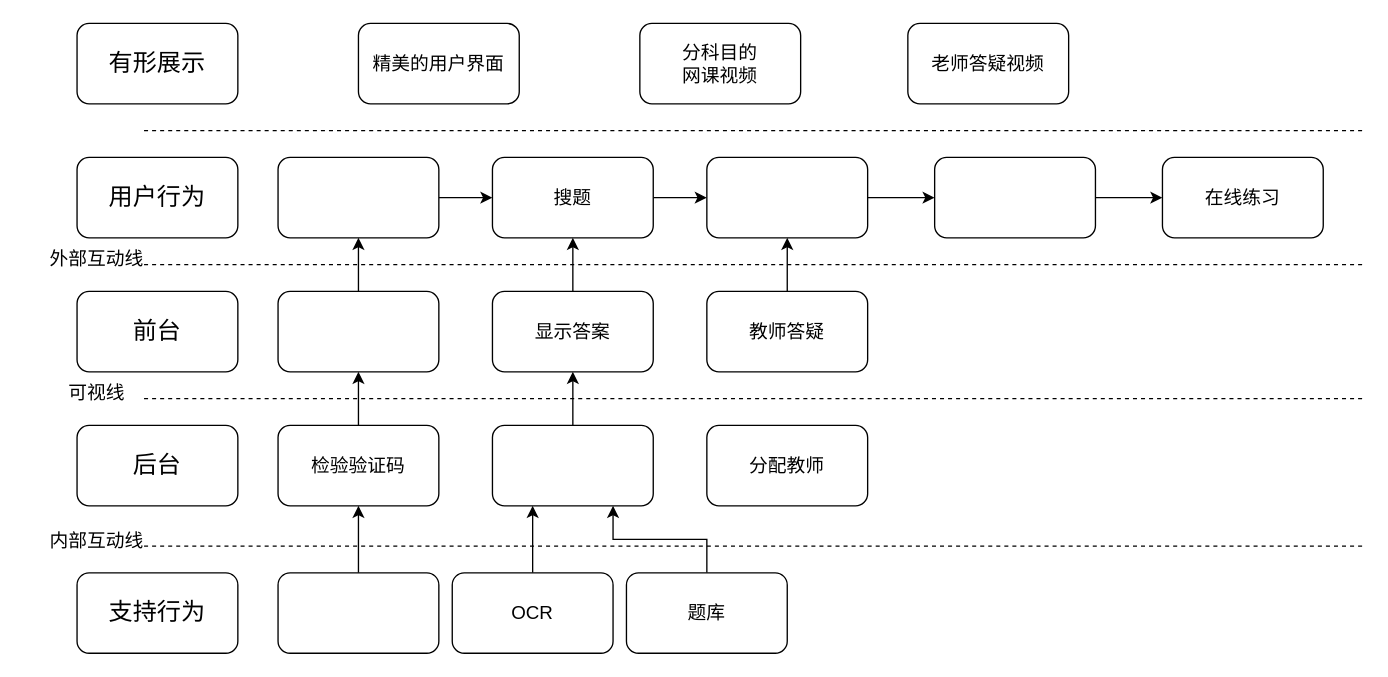
The diagram is 1388 pixels wide and 677 high, and some of its shapes have lost their labels. The shapes that lost their labels are listed below. From the top down, each one's box as (x1, y1, x2, y2) in pixels, then its label:
(277, 156, 439, 238): 注册账号
(706, 156, 868, 238): 在线答疑
(933, 156, 1095, 238): 学习网课
(277, 290, 439, 372): 提示信息
(491, 424, 653, 506): 文字匹配
(277, 572, 439, 653): 注册系统
